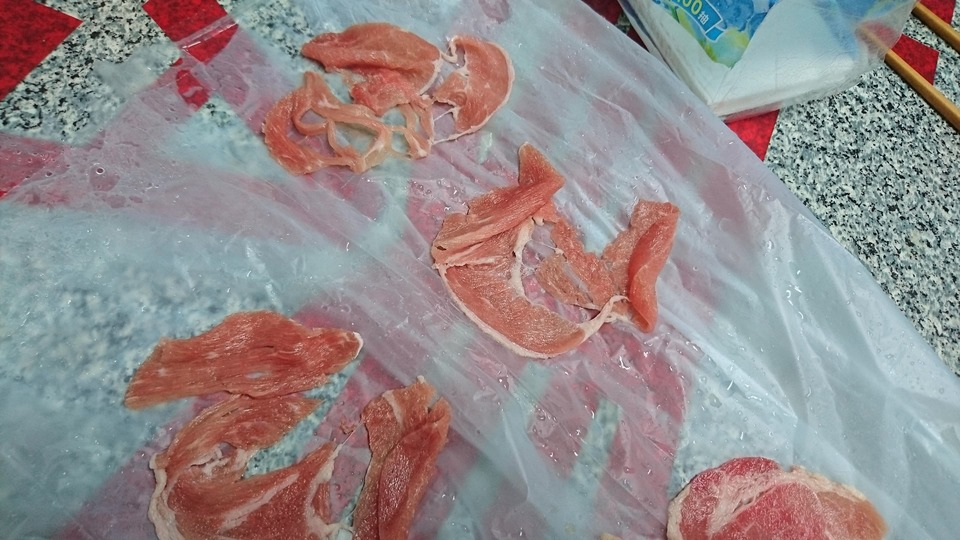restructured meat: (121, 321, 449, 540), (430, 151, 698, 370), (262, 19, 520, 172), (666, 449, 890, 540)
